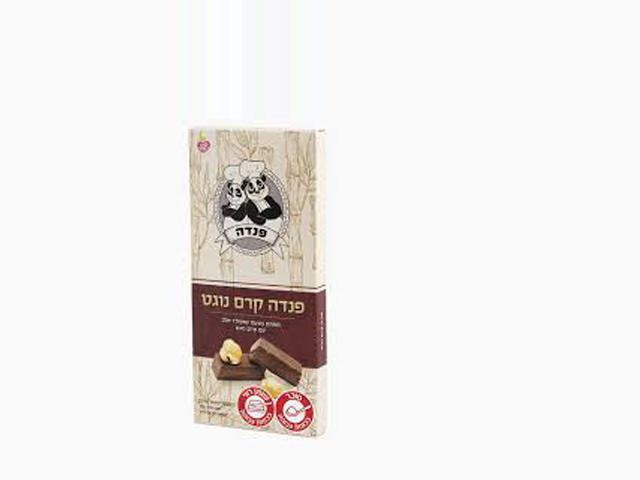chocolate: (182, 126, 350, 442)
